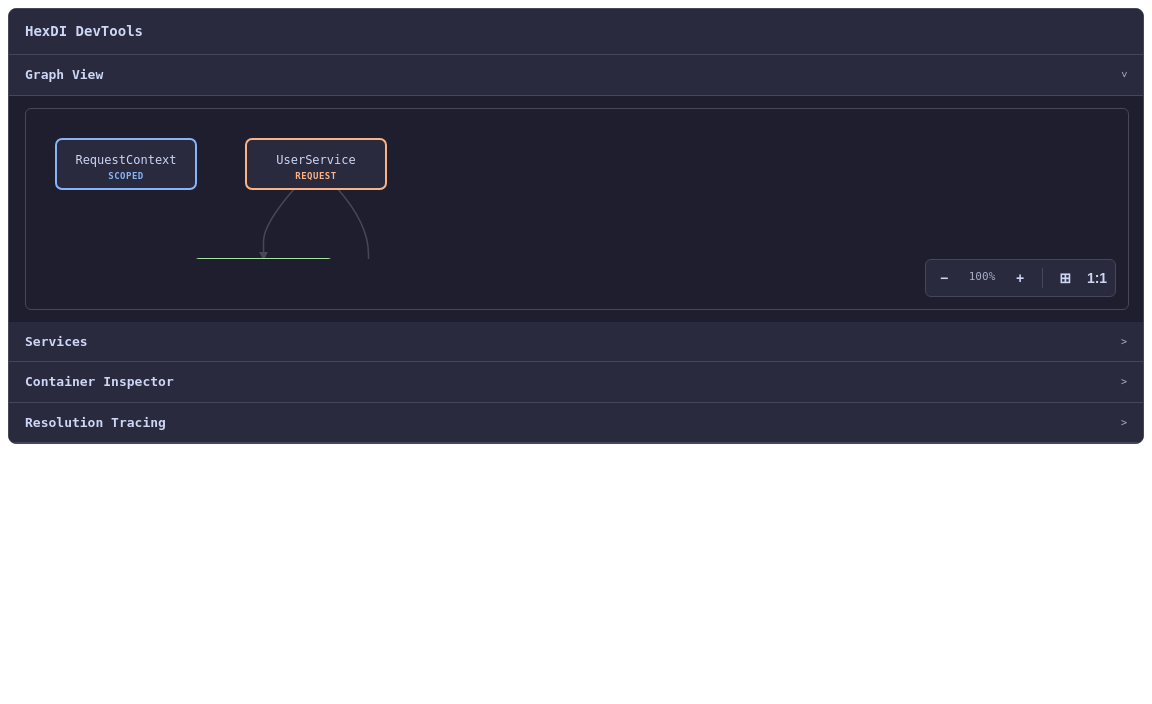
Test case: ContainerInspector › status filter toggles work (Resolved/Pending)
// Expand Container Inspector section
Click the button with test id "container-inspector-header": [99, 382] box [9,362,1143,402]
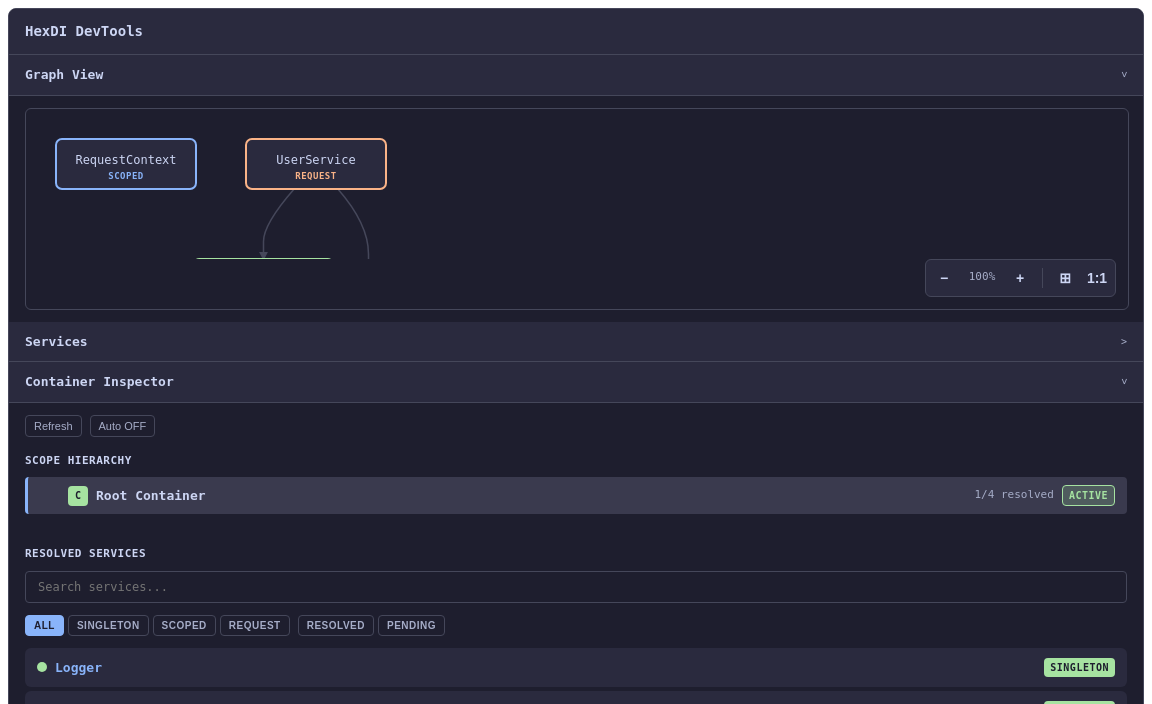
expect the button with test id "service-filter-resolved" is shown: met
expect the button with test id "service-filter-pending" is shown: met, box [378,614,445,636]
// Click resolved filter
Click the button with test id "service-filter-resolved": [336, 625] box [298,614,374,636]
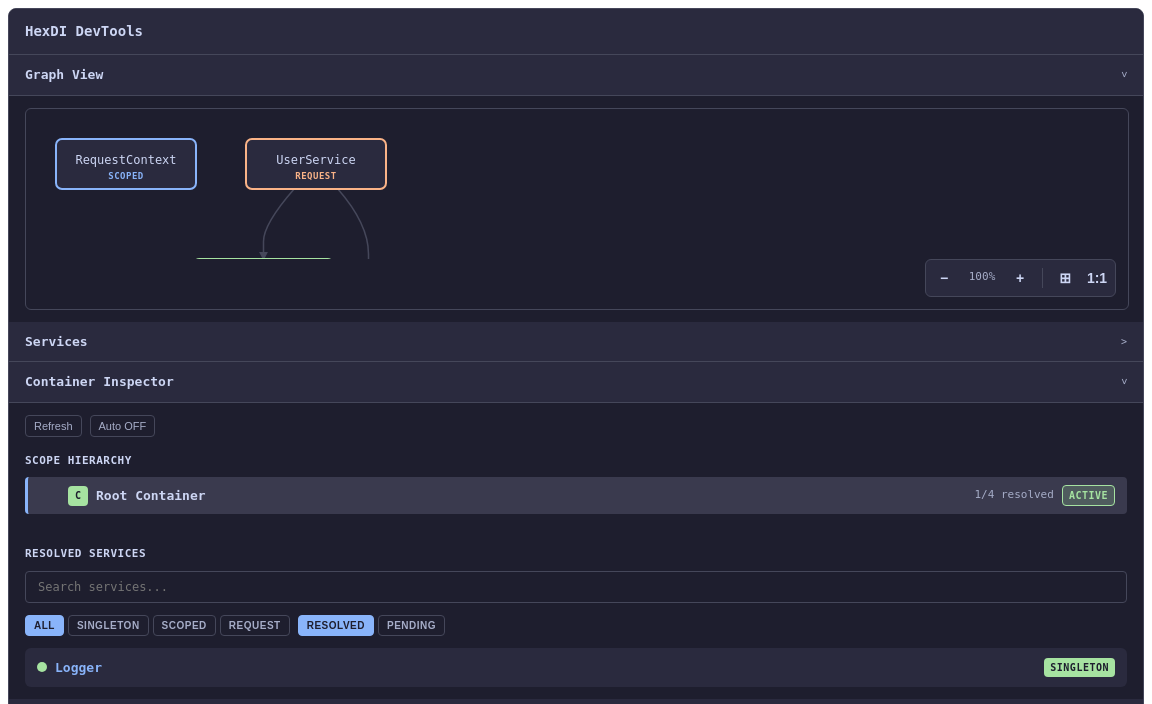
expect the element with test id "service-item-Logger" is shown: met, box [25,648,1127,687]
// Click pending filter
Click the button with test id "service-filter-pending": [412, 625] box [378,614,445,636]
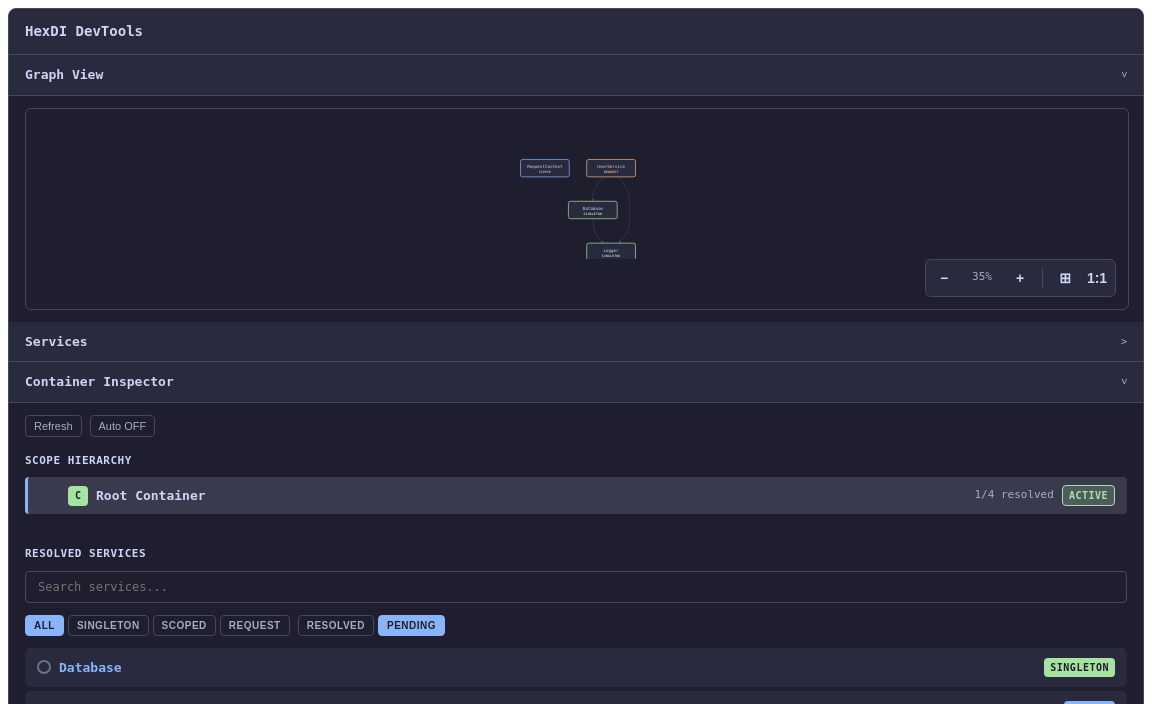
expect the element with test id "service-item-Logger" is gone: met
expect the element with test id "service-item-Database" is shown: met, box [25,648,1127,687]
